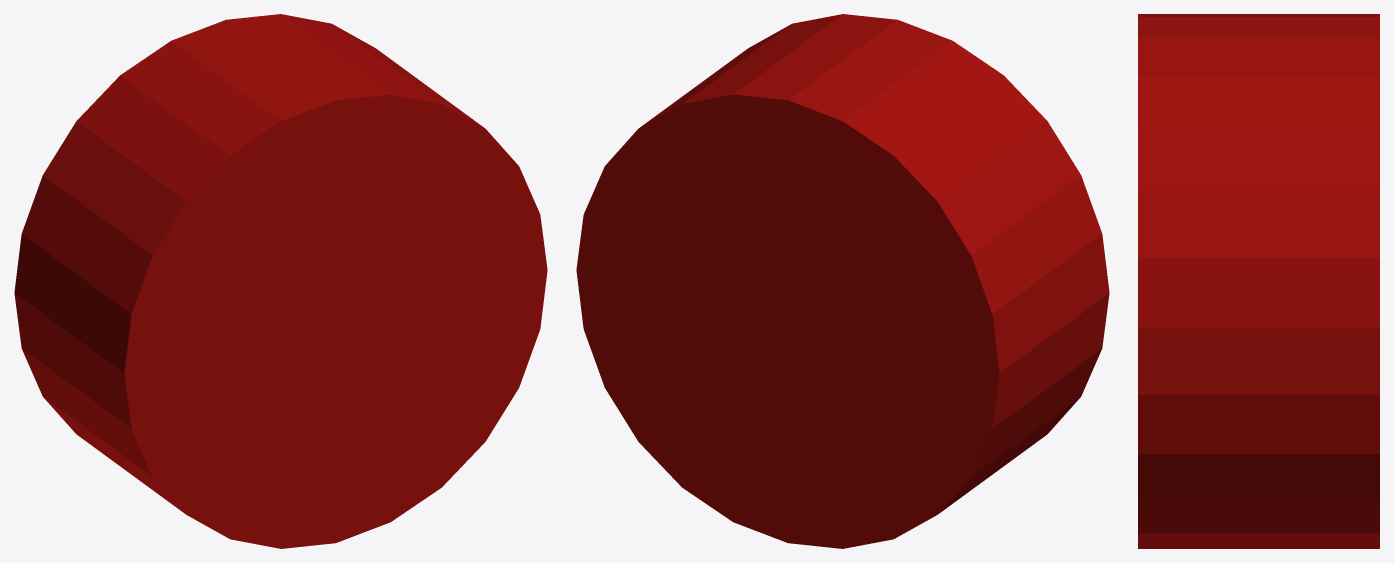
File: Part_EstopPivot.obj
The picture shows the model from 3 angles, left to right: view 1: azimuth 30°, elevation 25°; view 2: azimuth 150°, elevation 25°; view 3: azimuth 270°, elevation 25°; orthographic projection. The views are drawn at different scales.
Visible parts, largest first — view 1: EstopButton; view 2: EstopButton; view 3: EstopButton.
Boxes of the visible parts, x1,y1,x2,y2 form: EstopButton: [14, 14, 547, 548]; EstopButton: [576, 14, 1109, 548]; EstopButton: [1138, 14, 1379, 548].
Bounding box in the file's own units: 0.1 × 0.1 × 0.045.
